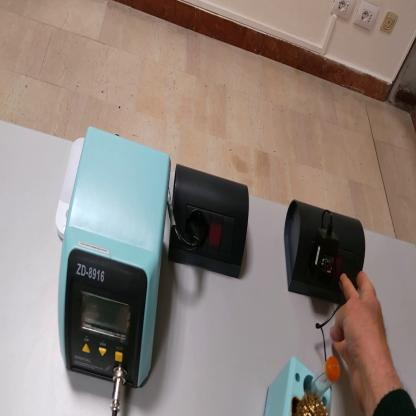hand: (331, 268, 395, 401)
socket: (168, 163, 251, 282), (284, 200, 366, 306)
welder base: (264, 356, 343, 415)
welder station: (57, 127, 171, 389)
